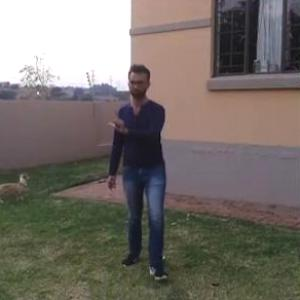land_hand: (106, 103, 130, 136)
